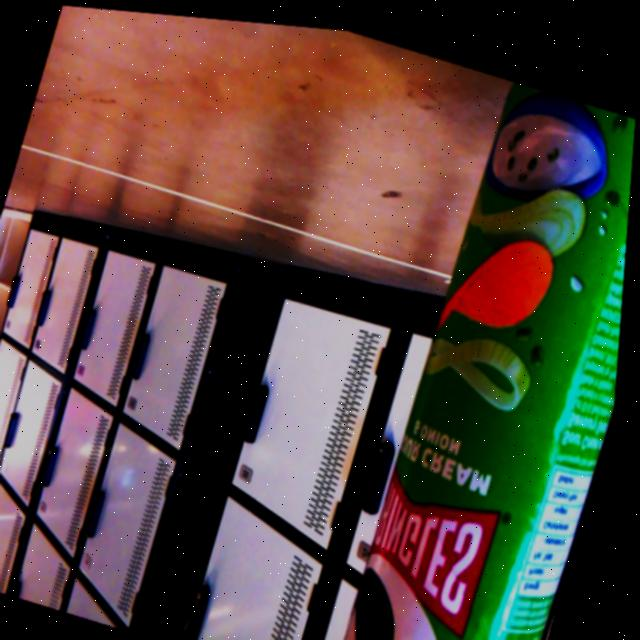greenpringles: (294, 46, 639, 640)
